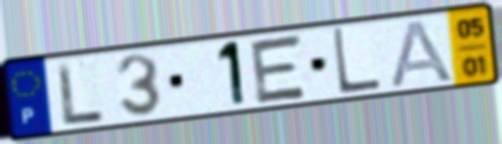1: (212, 38, 248, 110)
3: (114, 52, 164, 121)
A: (388, 17, 457, 90)
E: (247, 31, 311, 106)
L: (329, 25, 384, 98), (54, 59, 107, 129)
